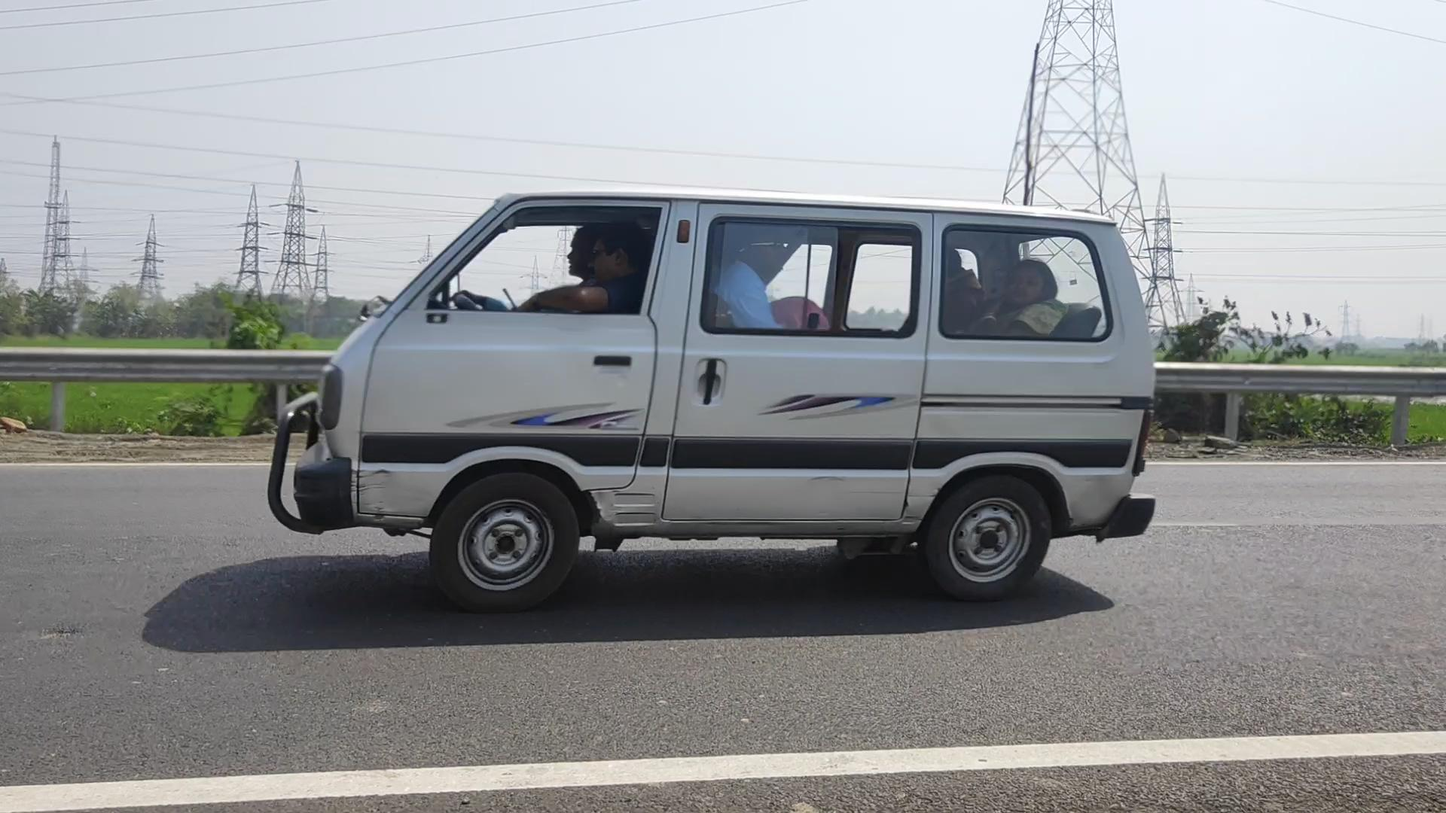van: (267, 188, 1157, 614)
